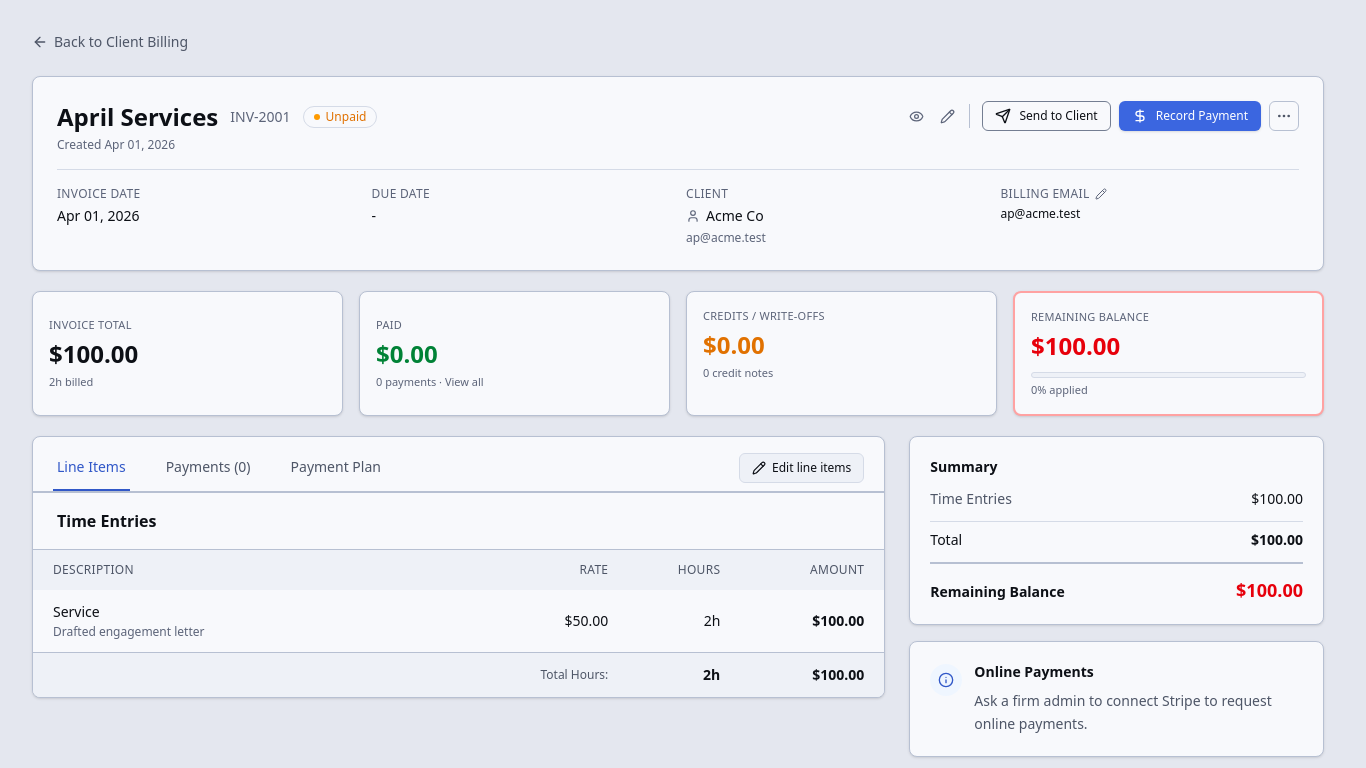
it: marks the row with a third decimal inline as it is typed, before any save
Click the button "Payment Plan".
click(336, 468)  # box [287,445,385,491]
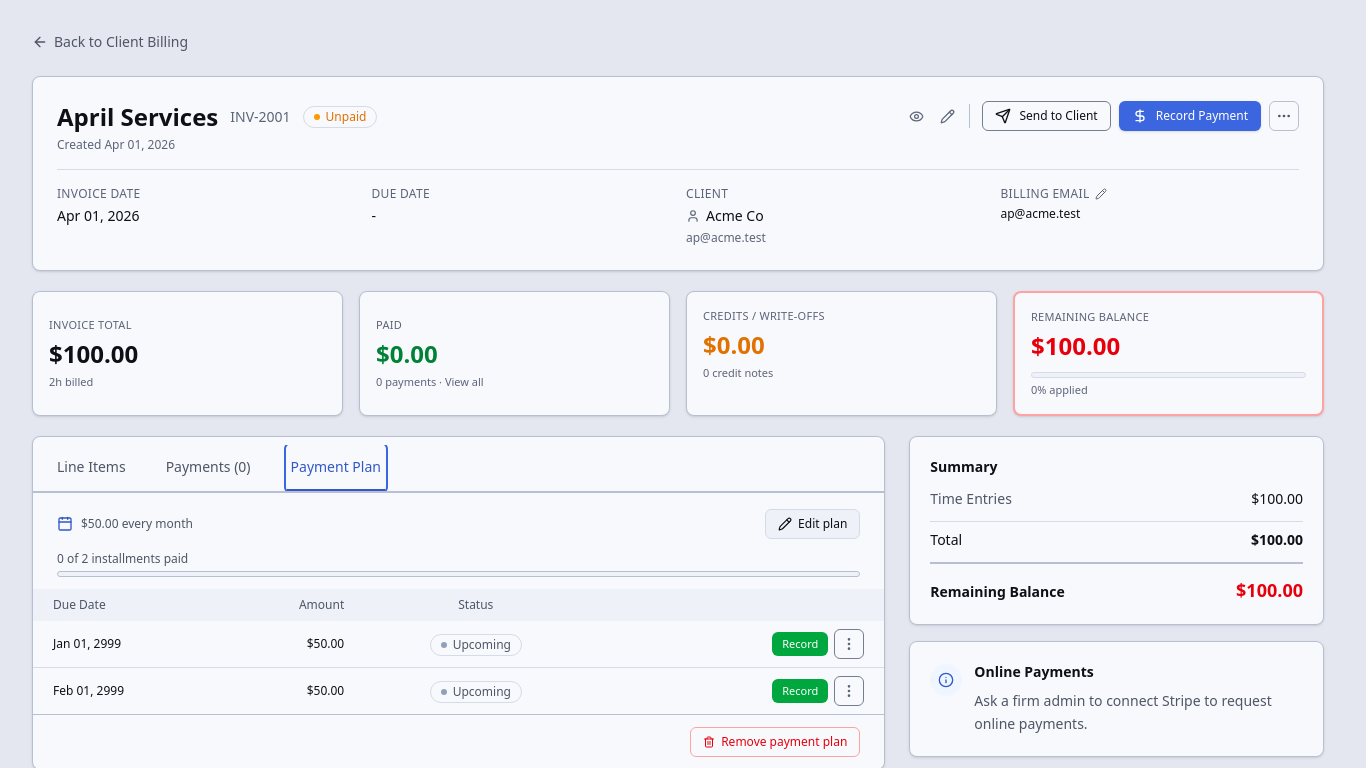
Click the button "Edit plan".
click(813, 524)  # box [765,509,860,539]
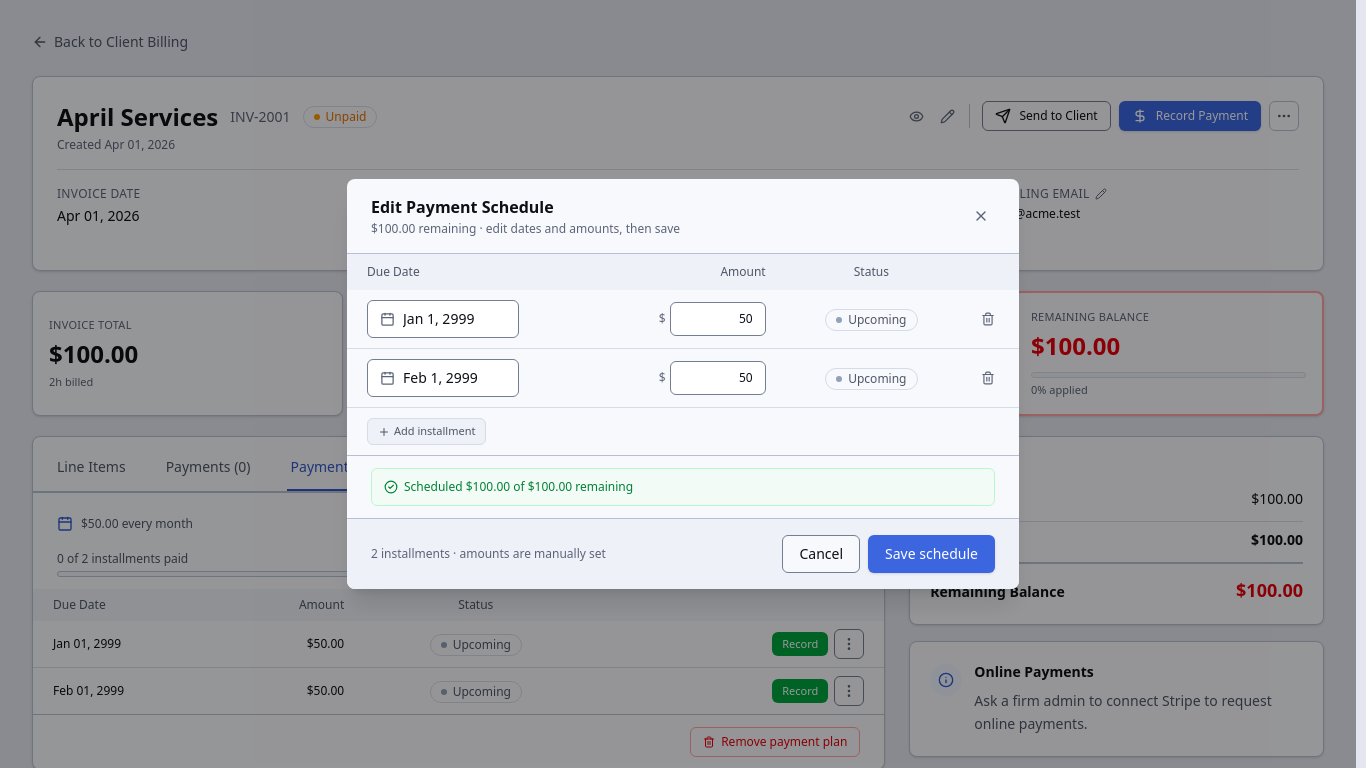
Replace the text in the 1st number field with placeholder "0.00" with "10.999" at (718, 319), box [670,302,766,336]
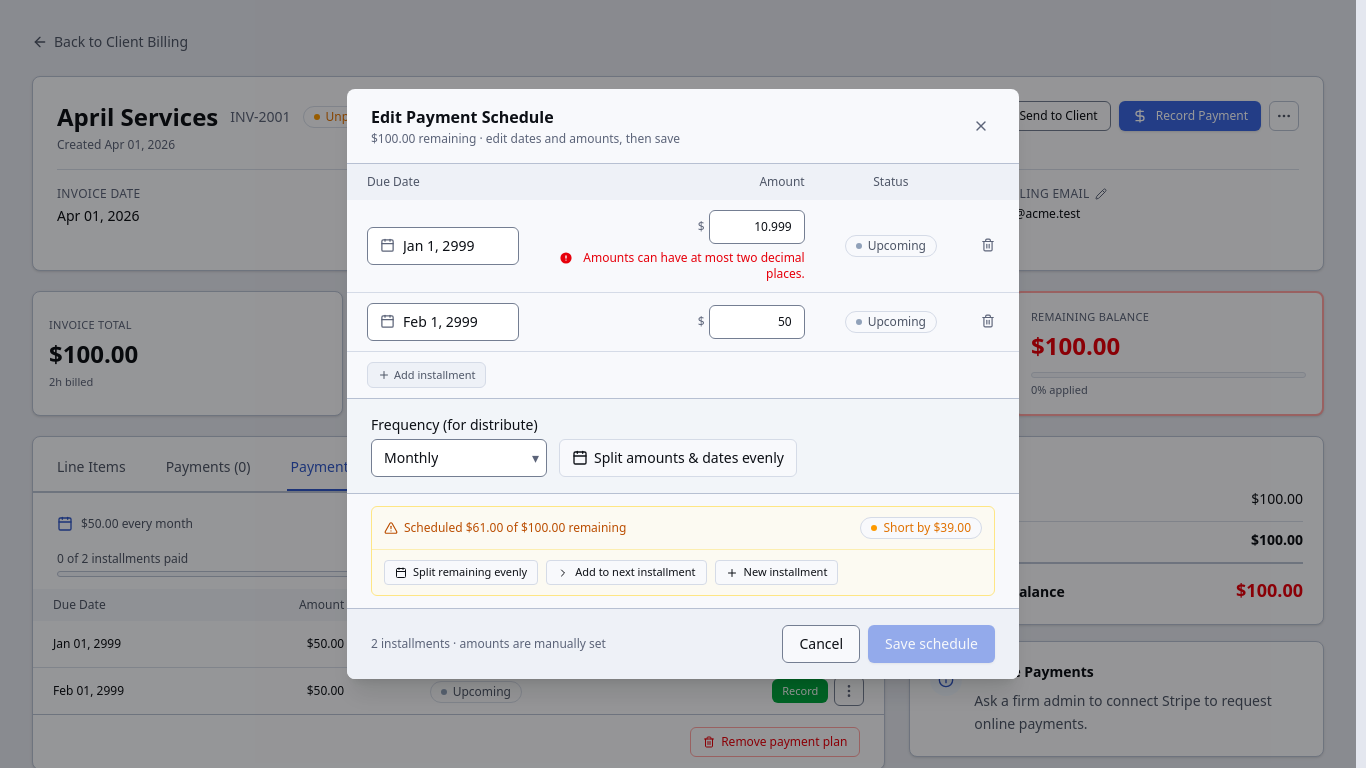
Check: the message reads "Amounts can have at most two decimal places.", box [583,249,805,282]
Replace the text in the 1st number field with placeholder "0.00" with "10.99" at (757, 227), box [709,210,805,244]
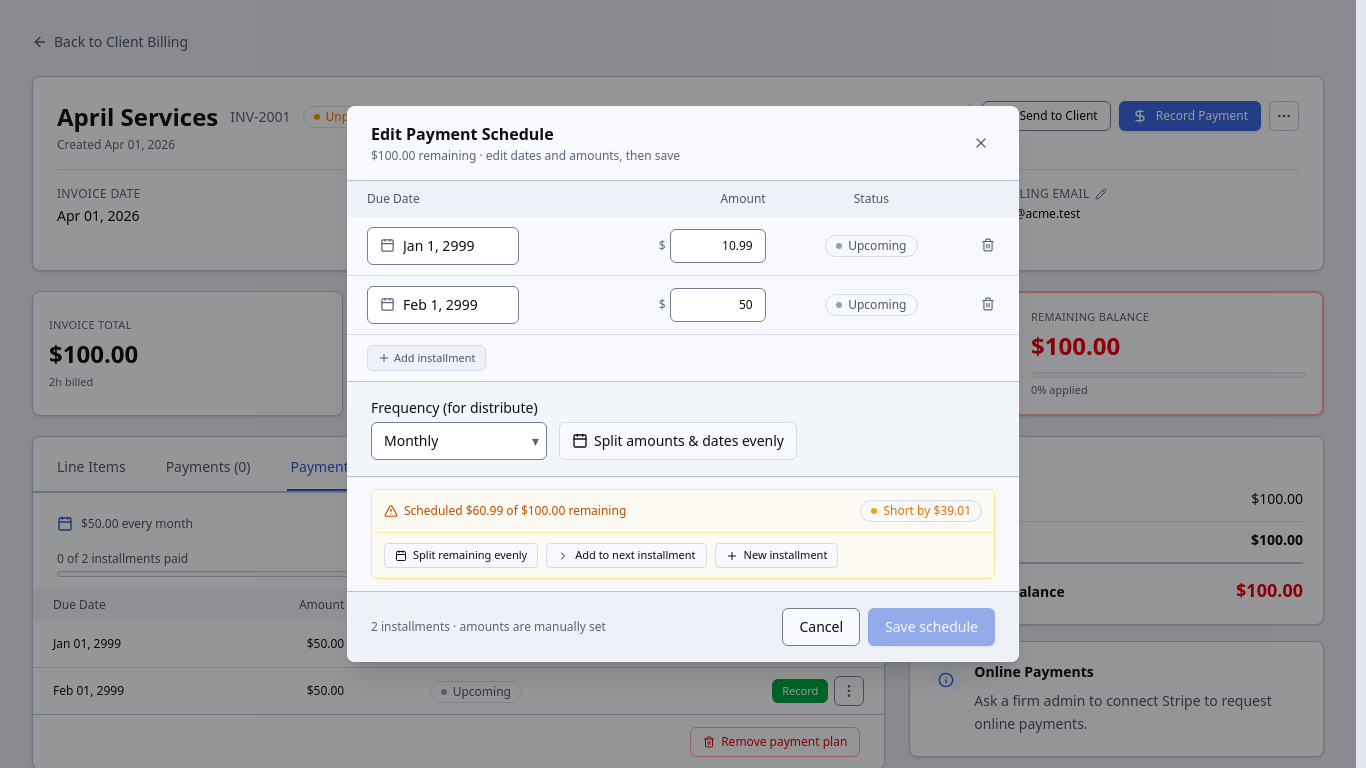
Check: the message "Amounts can have at most two decimal places." is gone
